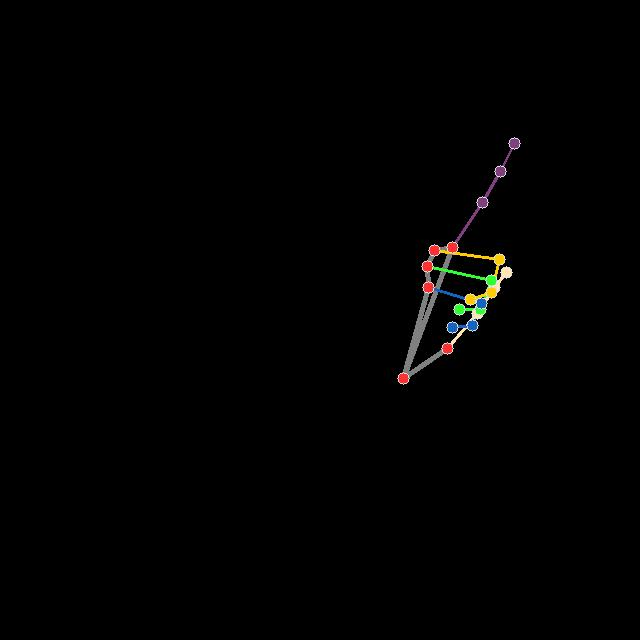gun: (396, 134, 532, 391)
